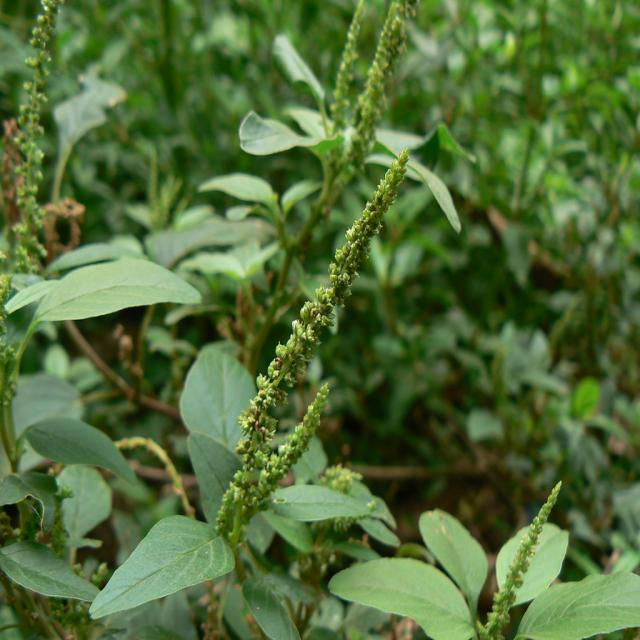Medicinal-Arive Dantu: (104, 119, 412, 640), (0, 13, 199, 469), (191, 5, 457, 340), (332, 475, 640, 640)
